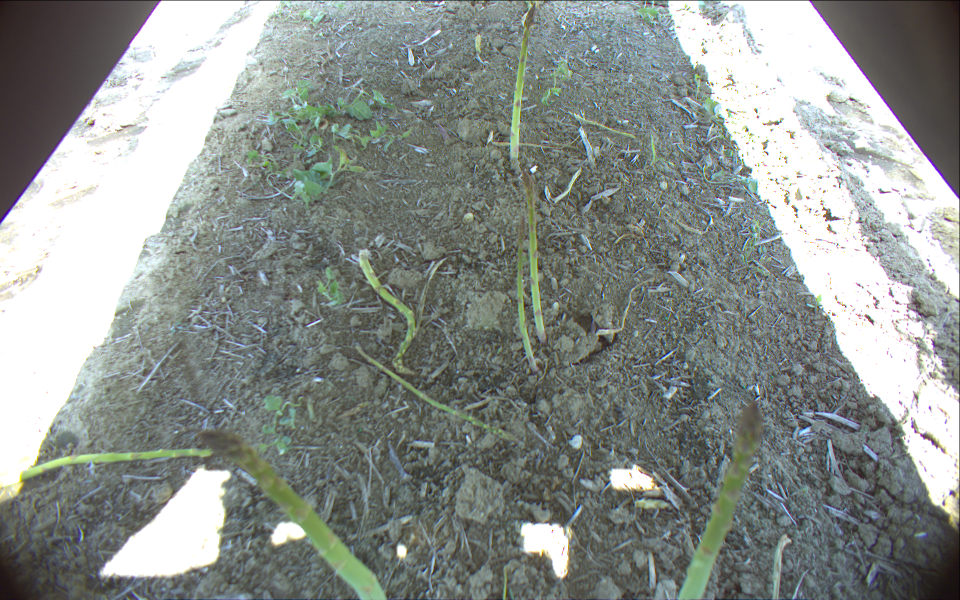aspa: (197, 430, 386, 600), (676, 398, 762, 600), (350, 345, 518, 442), (1, 449, 212, 488), (359, 246, 415, 375), (521, 169, 549, 342), (513, 218, 542, 370), (511, 1, 534, 168), (568, 111, 632, 139), (473, 30, 482, 59)
